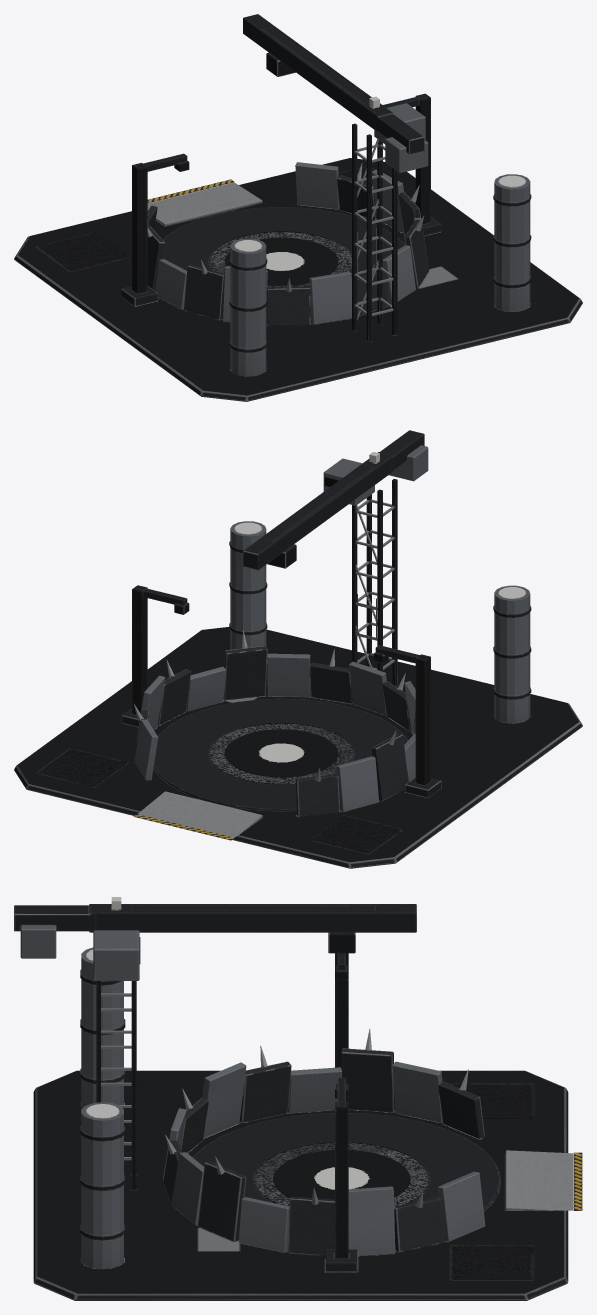
File: chs_advbotlab.fbx
The picture shows the model from 3 angles, top to bottom: view 1: azimuth 30°, elevation 25°; view 2: azimuth 150°, elevation 25°; view 3: azimuth 270°, elevation 25°; orthographic projection. The views are drawn at different scales.
Parts seen in each view (by area): view 1: base_bar, base_glow_power_bar; view 2: base_bar, base_glow_power_bar; view 3: base_bar, base_glow_power_bar.
Boxes of the visible parts, x1=… form: base_bar: x1=14, y1=14, x2=582, y2=401; base_glow_power_bar: x1=235, y1=175, x2=525, y2=270; base_bar: x1=14, y1=430, x2=582, y2=868; base_glow_power_bar: x1=235, y1=522, x2=525, y2=762; base_bar: x1=14, y1=904, x2=582, y2=1300; base_glow_power_bar: x1=86, y1=949, x2=368, y2=1189.
Bounding box in the file's own units: 3913 × 2535 × 4165.
2 materials, 2 textured.
